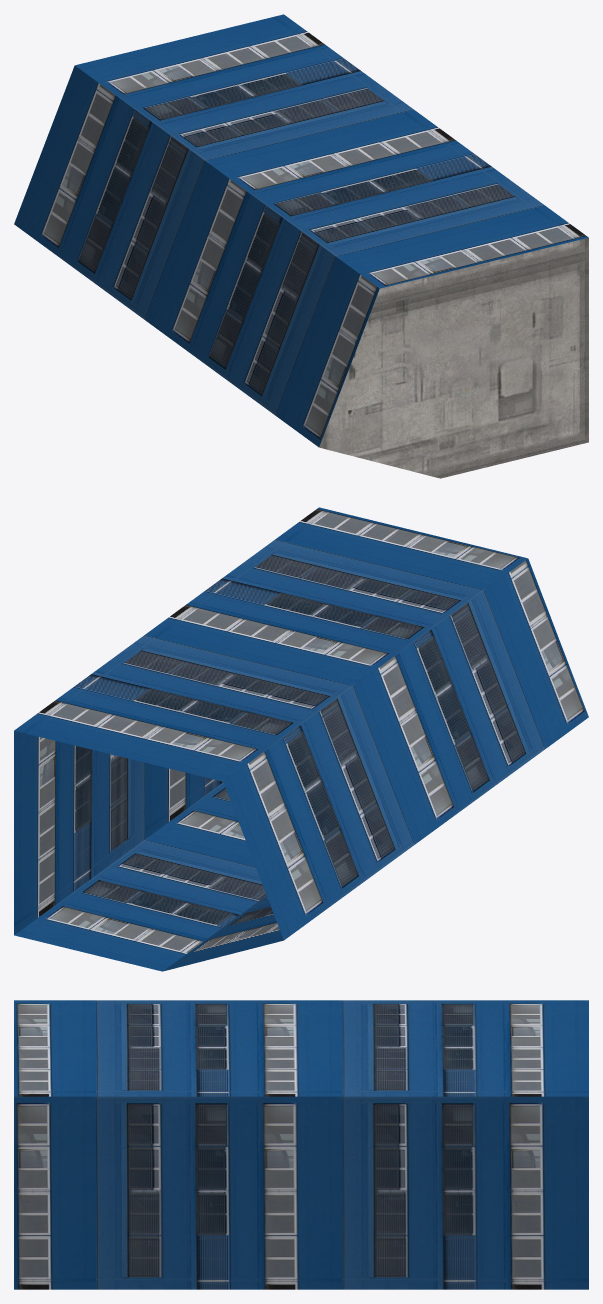
Rendered from building-87.obj.
3 views of the same model, one above another, from view 1: azimuth 30°, elevation 25°; view 2: azimuth 150°, elevation 25°; view 3: azimuth 270°, elevation 25° (orthographic). The views are drawn at different scales.
Bounding box in the file's own units: 9.31 × 6.75 × 18.23.
